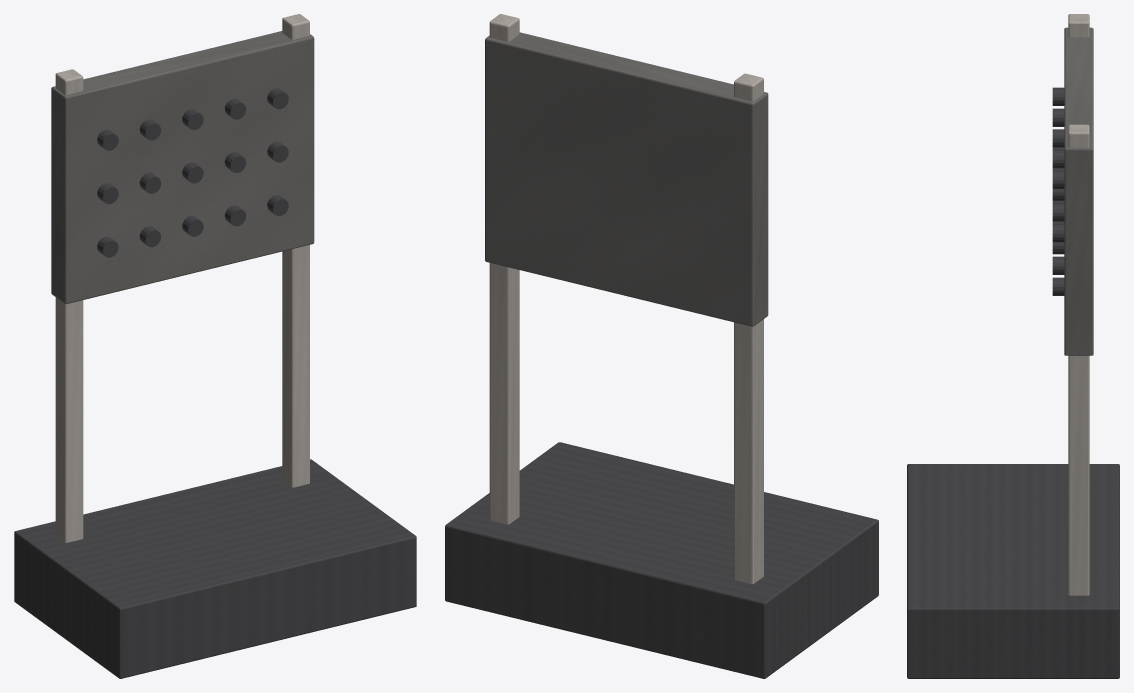
Rendered from cable_test_stand.glb.
3 renders of one model, left to right at view 1: azimuth 30°, elevation 25°; view 2: azimuth 150°, elevation 25°; view 3: azimuth 270°, elevation 25°, orthographic. The views are drawn at different scales.
Visible parts, largest first — view 1: base.003, instrument_panel.007, upright.004, upright.005; view 2: instrument_panel.007, base.003, upright.005, upright.004; view 3: base.003, instrument_panel.007, upright.005, upright.004.
Boxes of the visible parts, x1,y1,x2,y2 form: base.003: (14,459,416,678); instrument_panel.007: (51,31,314,304); upright.004: (55,69,83,542); upright.005: (282,14,309,487); instrument_panel.007: (485,32,768,326); base.003: (445,442,878,678); upright.005: (489,14,519,524); upright.004: (734,73,763,583); base.003: (907,464,1119,678); instrument_panel.007: (1064,27,1093,355); upright.005: (1068,124,1089,595); upright.004: (1068,14,1089,37).
Size of the model in its own units: 1.05 by 1.8 by 0.65.
3 materials, 3 textured.
